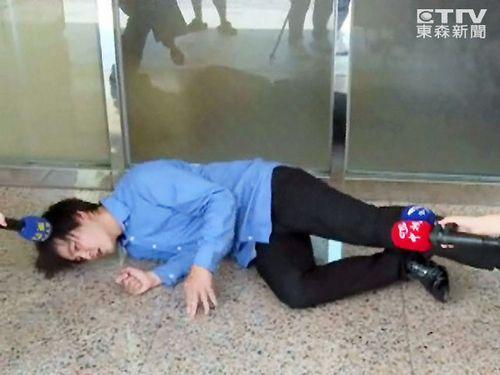fall: (10, 137, 475, 324)
